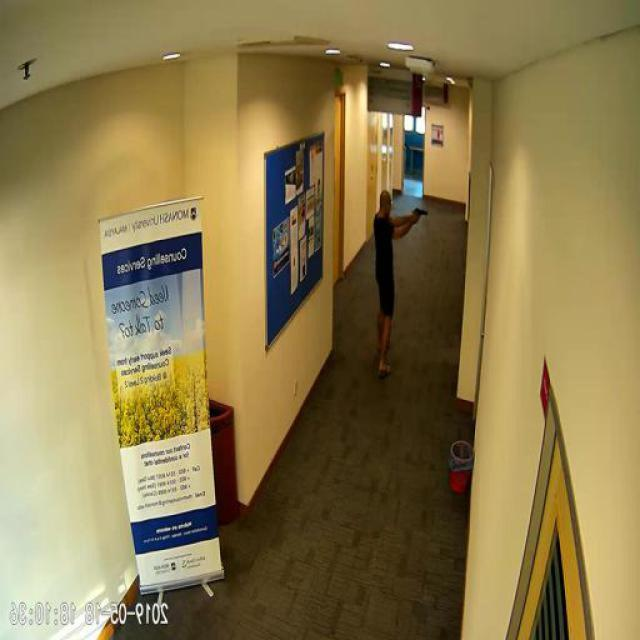weapon: (409, 208, 429, 222)
